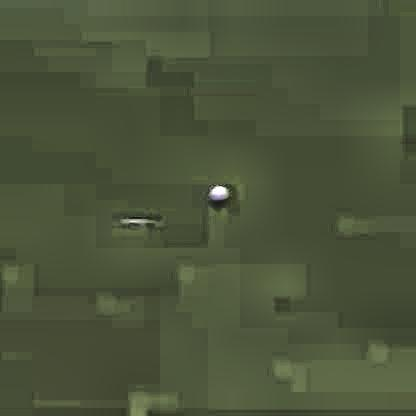golfball: (206, 182, 226, 200)
